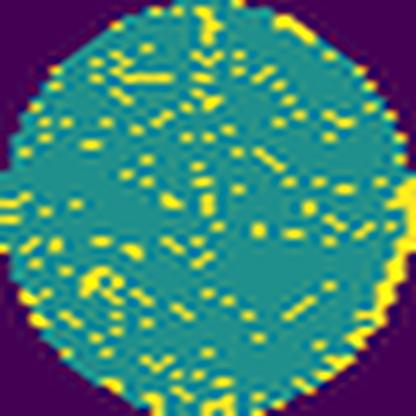Edge-Loc: (351, 163, 415, 356)
